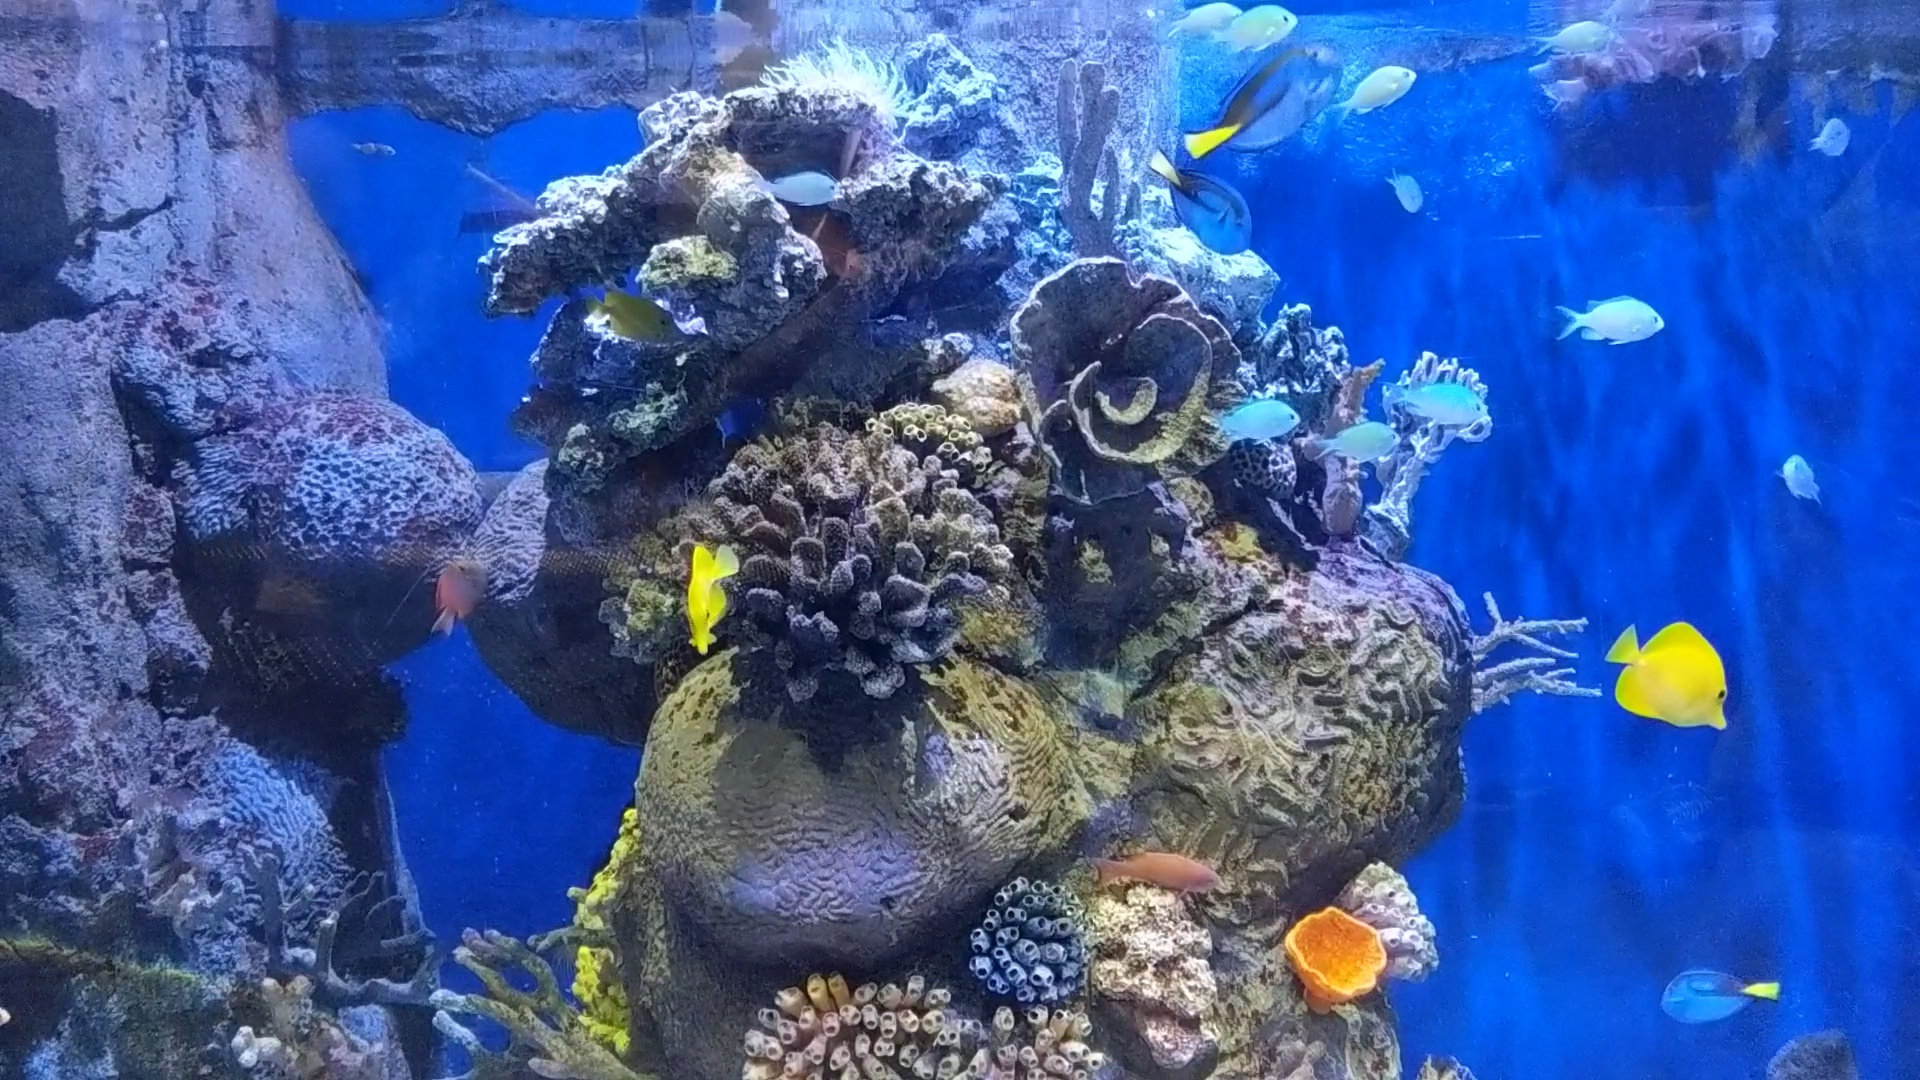blue tang surgeonfish: (1183, 28, 1348, 179), (1135, 148, 1291, 274), (1629, 945, 1789, 1033)
damselfish: (1538, 289, 1706, 382), (1291, 40, 1431, 131), (1295, 390, 1408, 500), (1366, 352, 1498, 442), (1745, 448, 1862, 534), (1490, 13, 1634, 83), (744, 164, 872, 237), (1778, 79, 1873, 175), (1360, 166, 1472, 229), (1139, 3, 1241, 65), (336, 123, 425, 193), (1209, 390, 1302, 447), (1207, 3, 1270, 65)
saddle butterfly fish: (1575, 607, 1768, 770), (651, 520, 762, 666), (556, 278, 684, 367)
